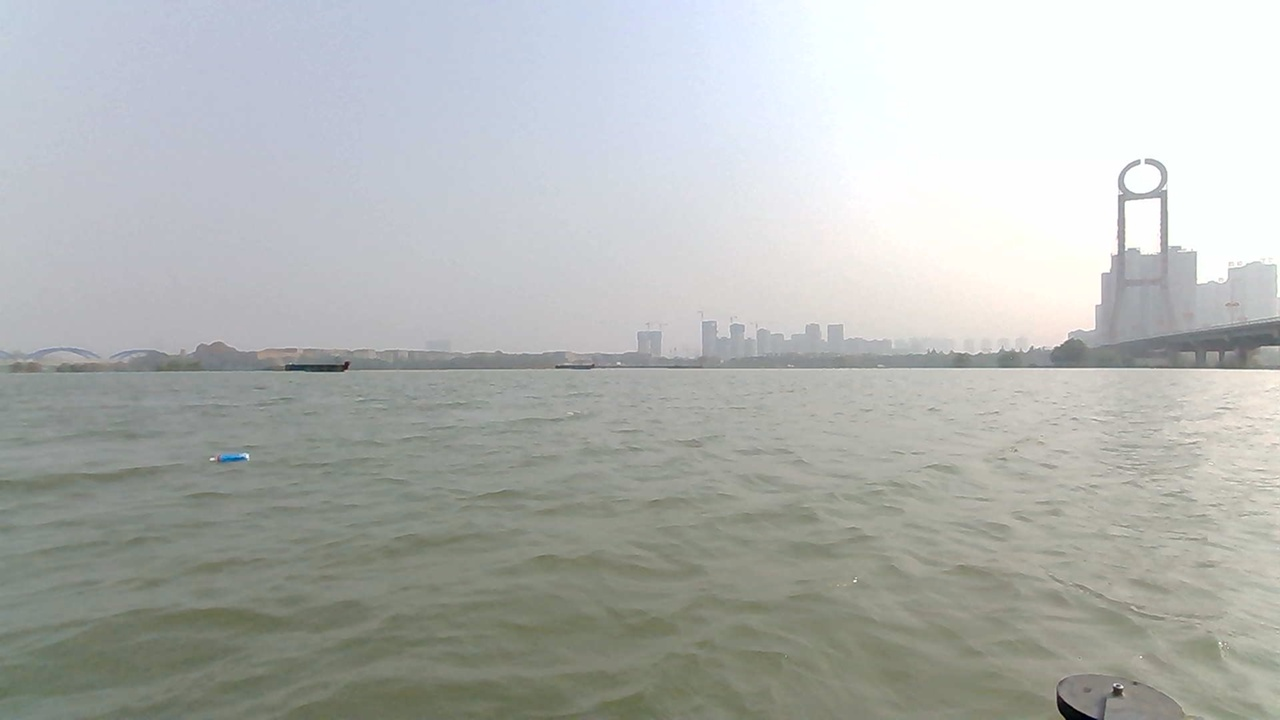bottle: (208, 448, 255, 471)
